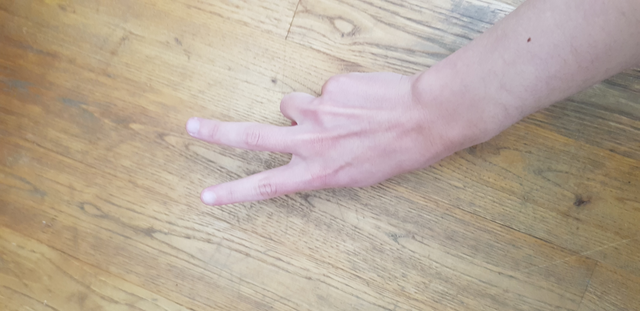Scissors: (164, 64, 473, 202)
